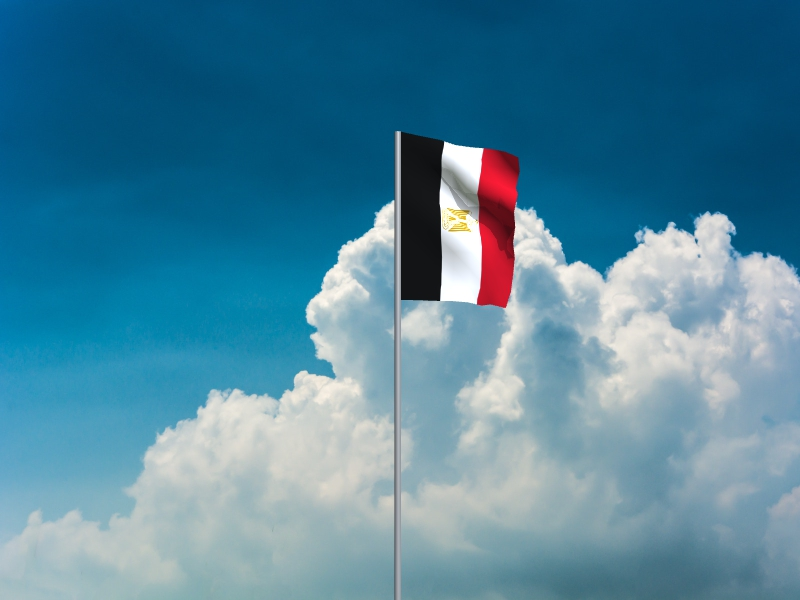eg: (402, 133, 521, 310)
